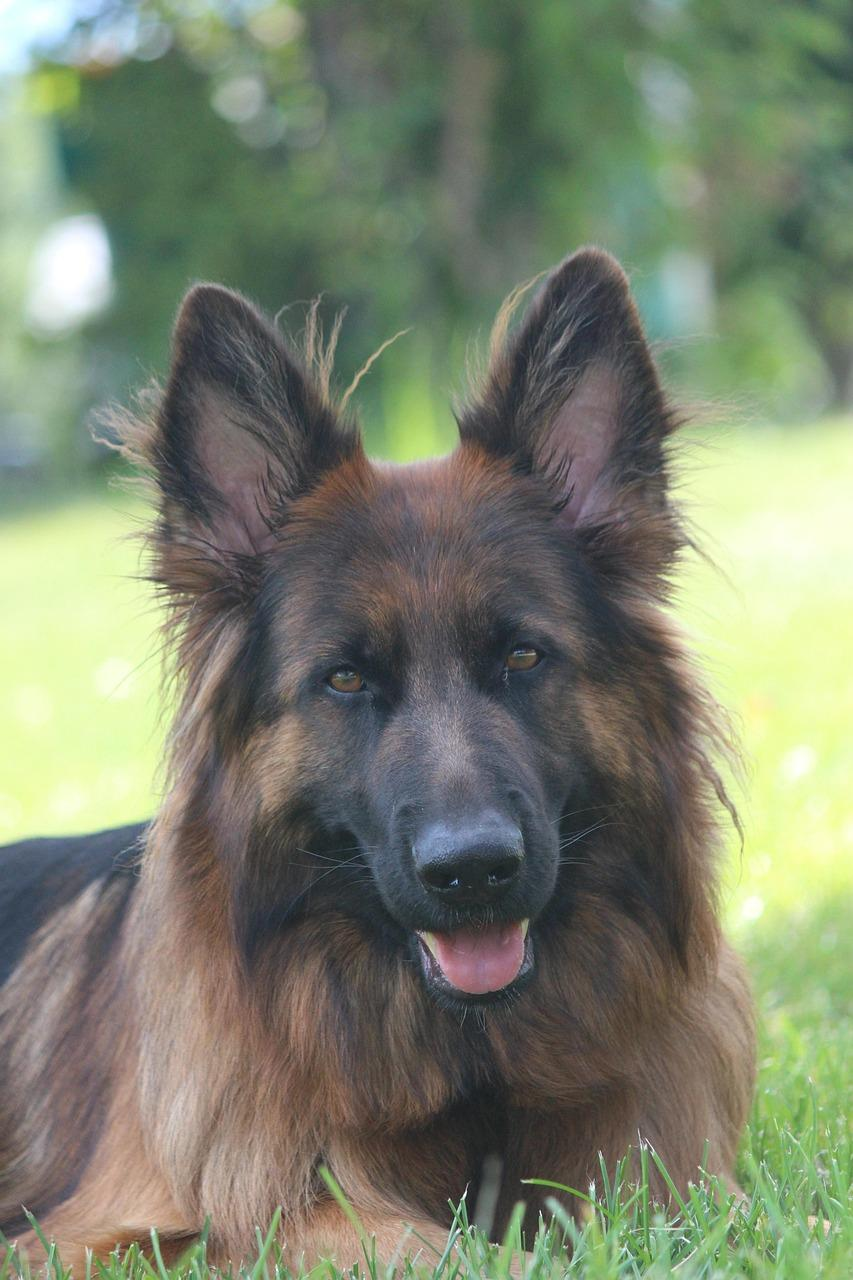german_shepherd: (152, 256, 716, 1091)
